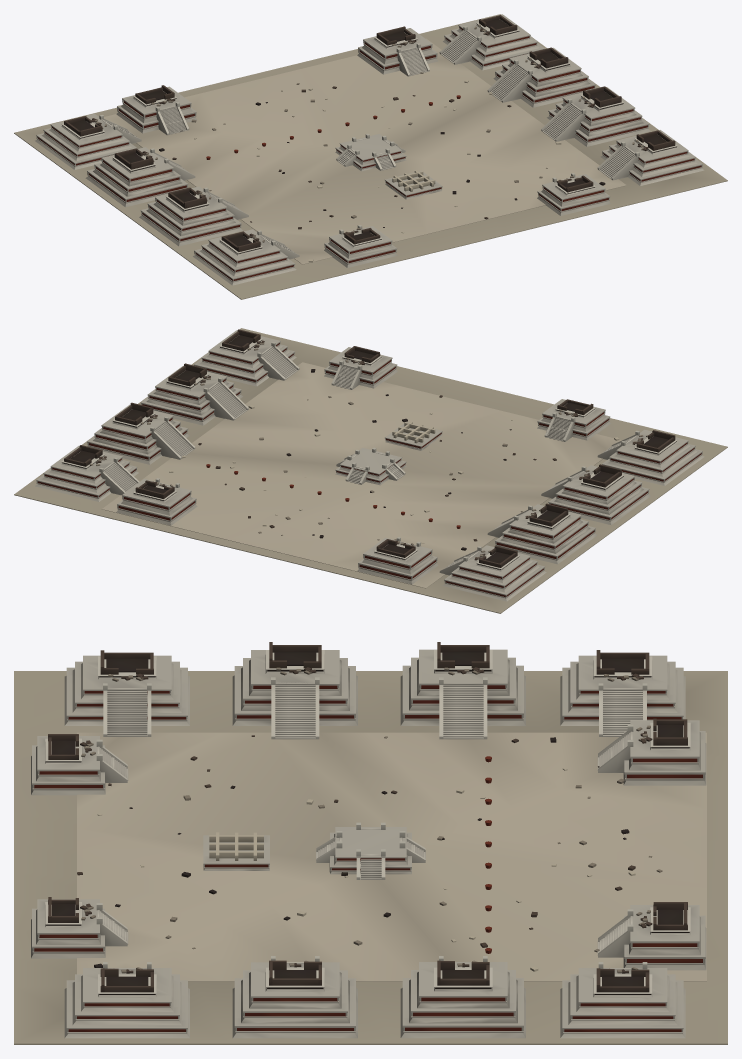
File: moon-plaza-650.glb
The picture shows the model from 3 angles, top to bottom: view 1: azimuth 30°, elevation 25°; view 2: azimuth 150°, elevation 25°; view 3: azimuth 270°, elevation 25°; orthographic projection. The views are drawn at different scales.
Parts seen in each view (by area): view 1: p0_plaza, p1_platforms, p2_braziers; view 2: p0_plaza, p1_platforms, p2_braziers; view 3: p0_plaza, p1_platforms, p2_braziers.
Boxes of the visible parts, x1,y1,x2,y2 form: p0_plaza: (14,14,727,299); p1_platforms: (35,14,704,285); p2_braziers: (116,26,610,267); p0_plaza: (14,328,727,613); p1_platforms: (35,329,704,601); p2_braziers: (116,346,619,584); p0_plaza: (14,671,727,1044); p1_platforms: (64,642,685,1038); p2_braziers: (31,718,706,971).
Size of the model in its own units: 210 by 12.92 by 170.
